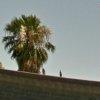Palm tree: (4, 9, 59, 71)
